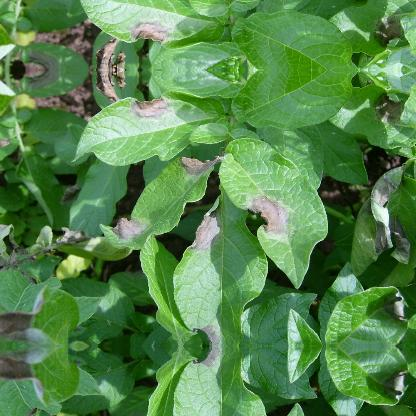Late-Blight: (31, 190, 226, 312), (7, 74, 97, 168), (30, 377, 225, 416), (117, 91, 225, 147), (7, 0, 97, 64), (257, 179, 323, 257), (117, 0, 225, 47), (368, 155, 412, 269), (158, 150, 244, 186)
